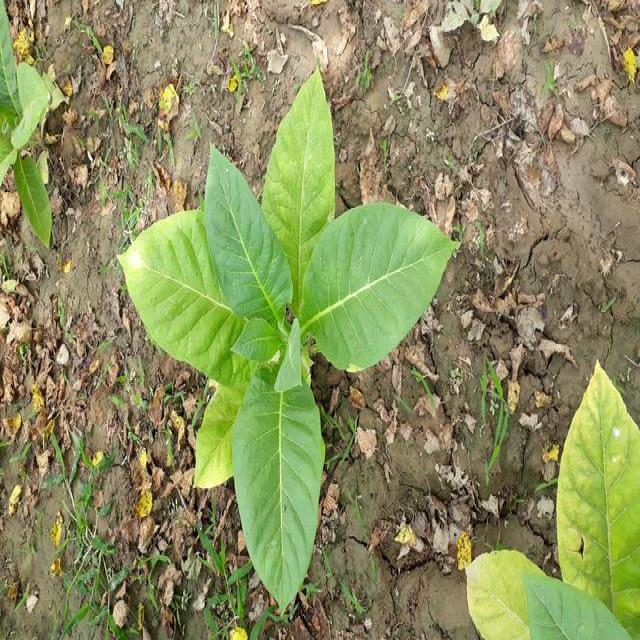crop: (116, 74, 447, 619), (470, 368, 640, 640), (9, 29, 61, 235)
